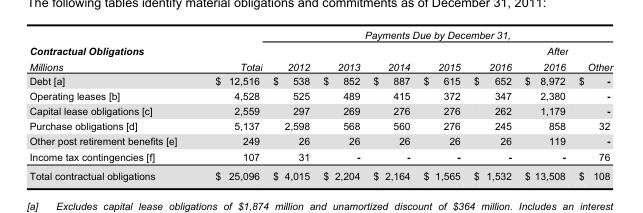table: (28, 29, 612, 181)
table column: (28, 29, 195, 181), (195, 29, 266, 181), (517, 29, 572, 181), (365, 29, 416, 181), (466, 29, 517, 181), (315, 29, 365, 181), (416, 29, 466, 181), (266, 29, 315, 181), (572, 29, 612, 181)
table column header: (28, 29, 612, 73)
table row: (28, 42, 612, 73), (28, 148, 612, 166), (28, 87, 612, 103), (28, 103, 612, 118), (28, 118, 612, 133), (28, 133, 612, 148), (28, 166, 612, 181), (28, 73, 612, 87), (28, 29, 612, 42)
table spanning cell: (28, 29, 195, 73), (266, 29, 612, 42), (195, 29, 266, 73)
